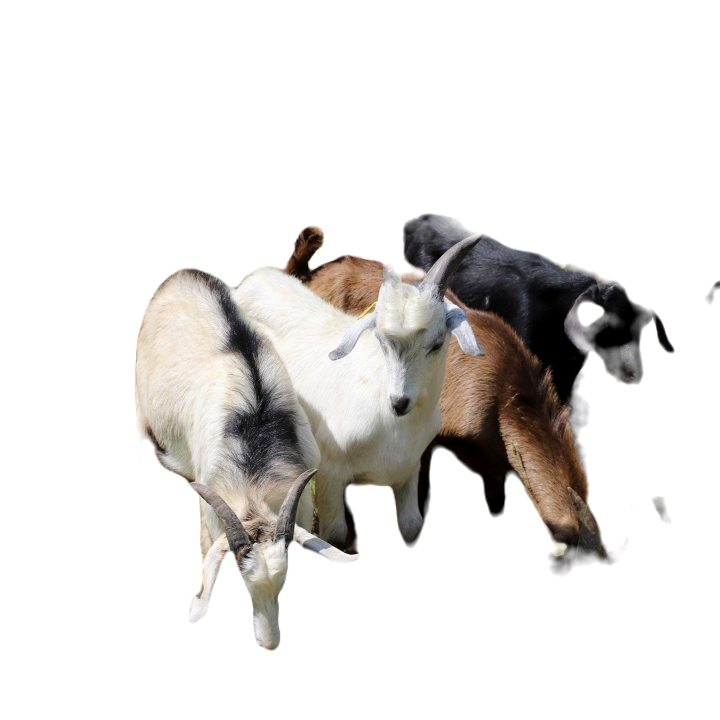Goat: (127, 264, 356, 648)
